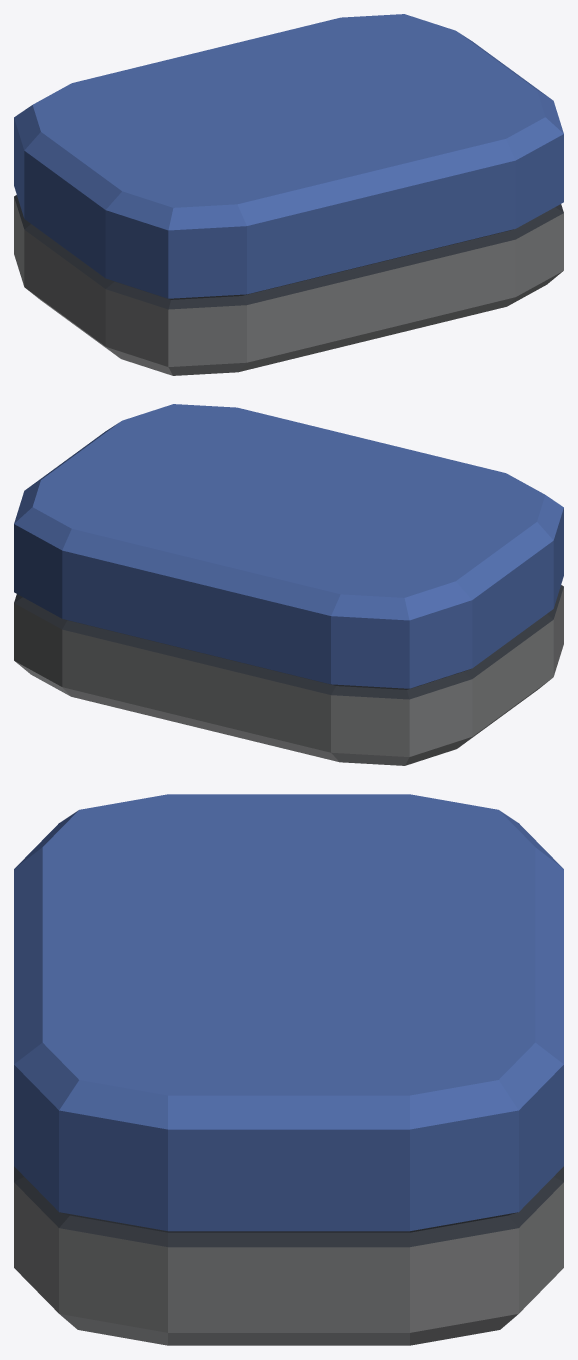
File: earbuds_case.glb
The picture shows the model from 3 angles, top to bottom: view 1: azimuth 30°, elevation 25°; view 2: azimuth 150°, elevation 25°; view 3: azimuth 270°, elevation 25°; orthographic projection. The views are drawn at different scales.
Parts seen in each view (by area): view 1: earbuds_case; view 2: earbuds_case; view 3: earbuds_case.
Boxes of the visible parts, x1,y1,x2,y2 form: earbuds_case: (14,14,563,375); earbuds_case: (14,404,563,765); earbuds_case: (14,794,563,1345).
Size of the model in its own units: 0.07 by 0.025 by 0.05.
